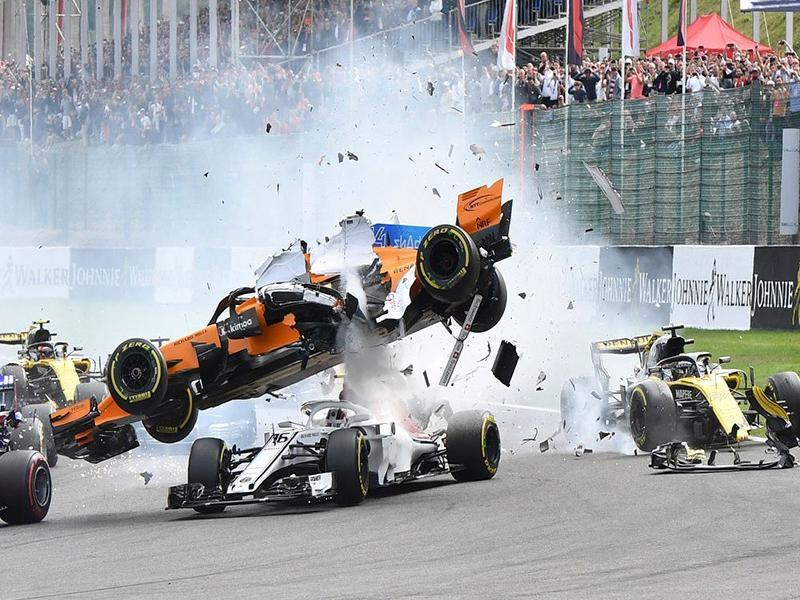f1: (192, 351, 527, 509), (561, 304, 800, 471)
